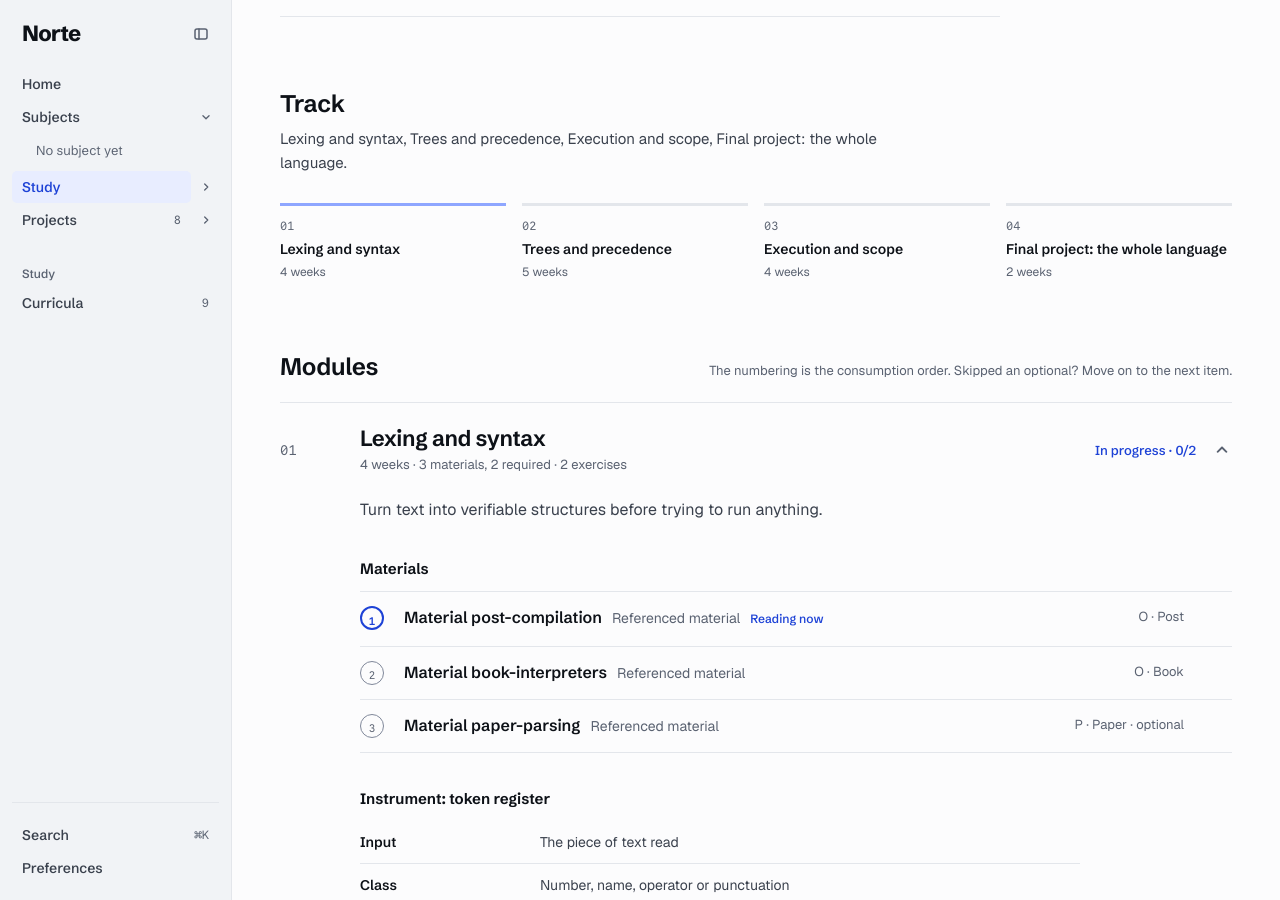
curriculum screen › collapses and expands a module
(page scrolled)
Click the button with class "nt-mod-head" at (453, 438), box [280, 403, 1232, 497]
(page scrolled)
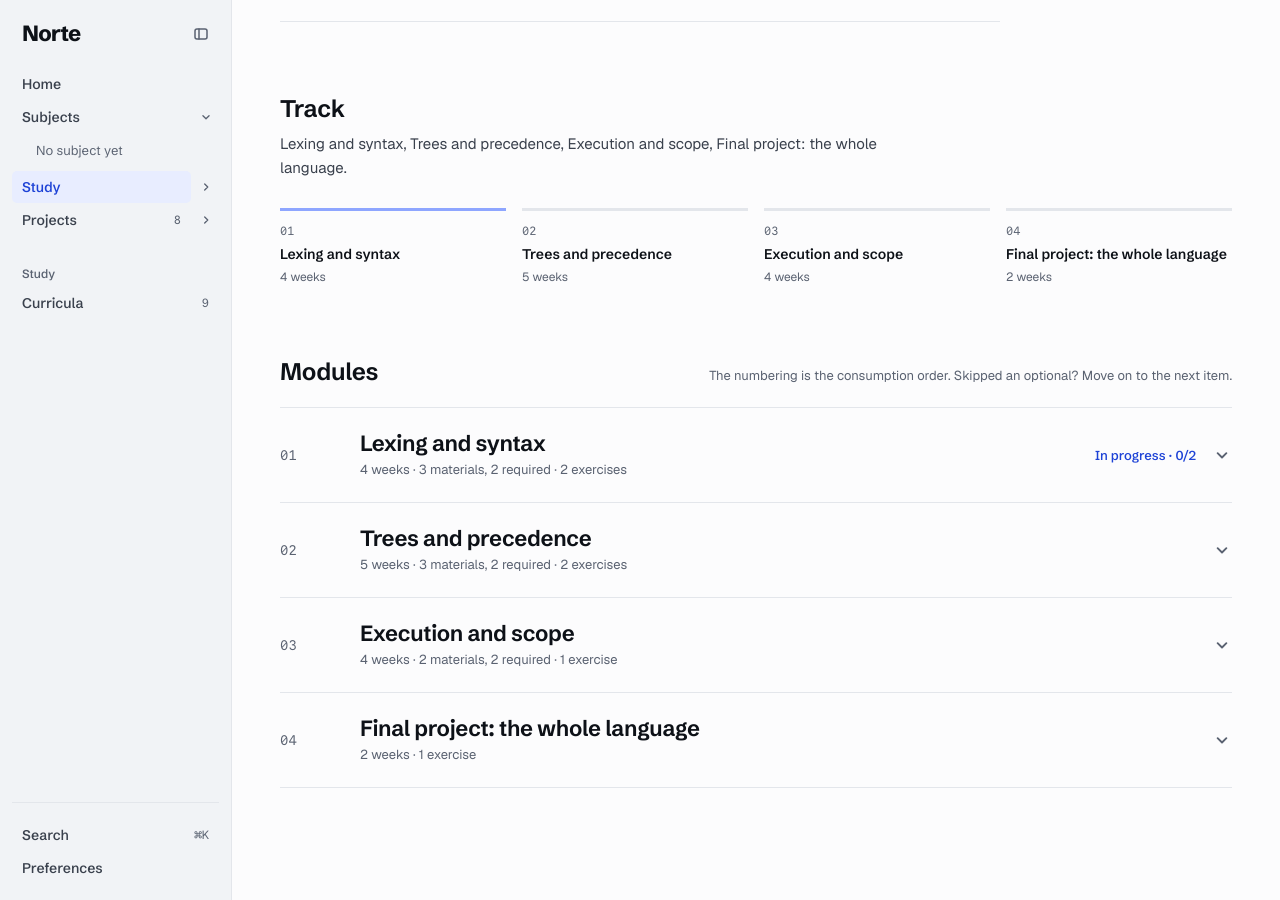
Expected: the button with class "nt-mod-head" is collapsed, [280, 408, 1232, 502]
Click the 2nd button with class "nt-mod-head" at (476, 538), box [280, 503, 1232, 597]
(page scrolled)
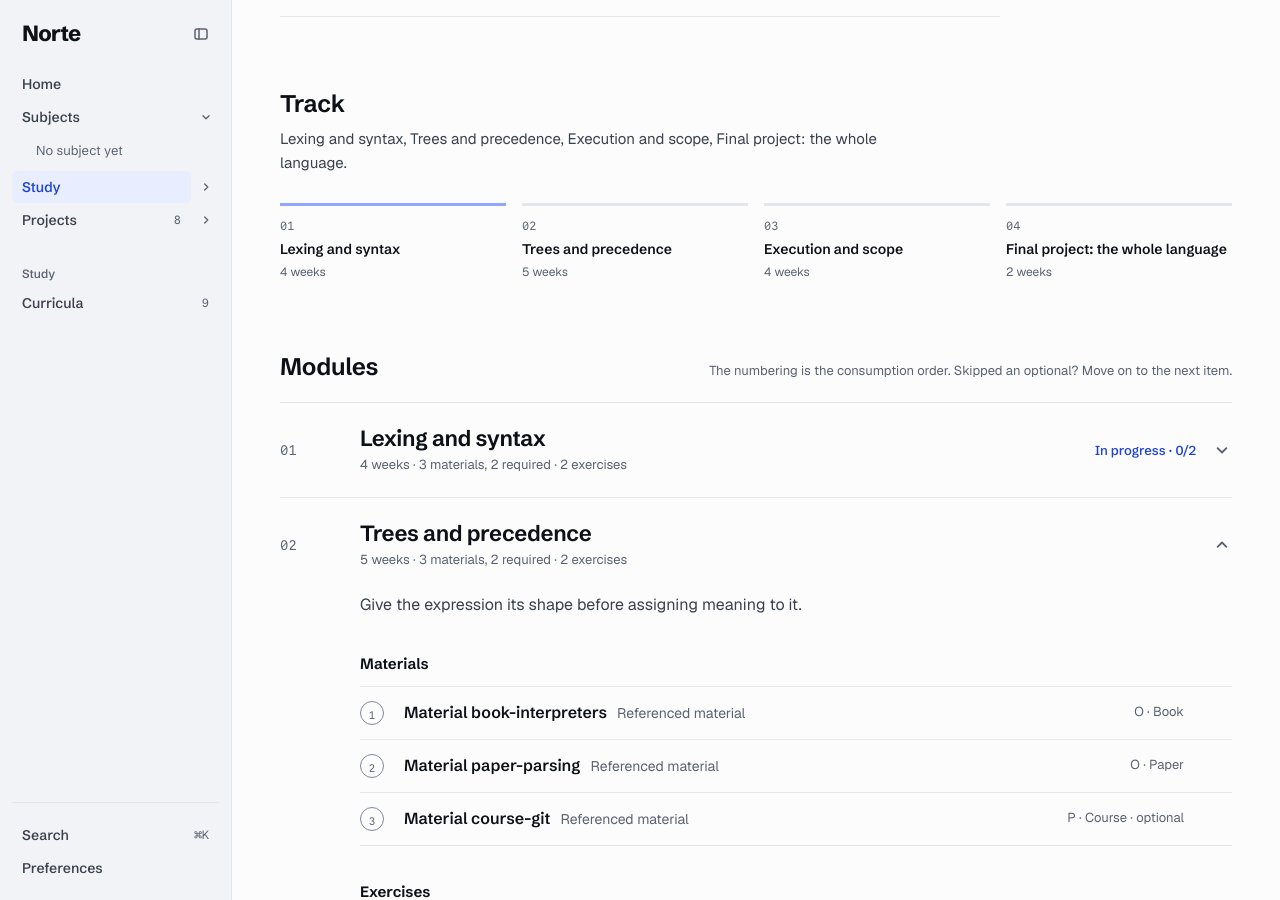
Expected: the button with class "nt-mod-head" is expanded, [280, 498, 1232, 592]
